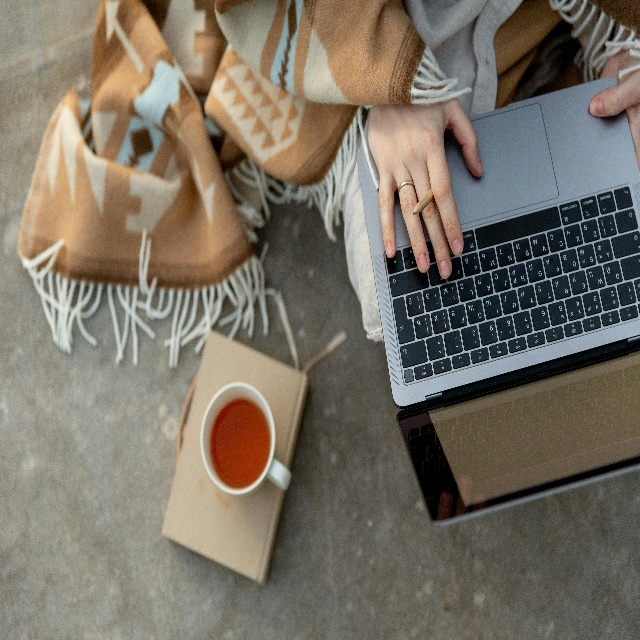Sin_guantes: (367, 99, 485, 283), (589, 66, 640, 119)
